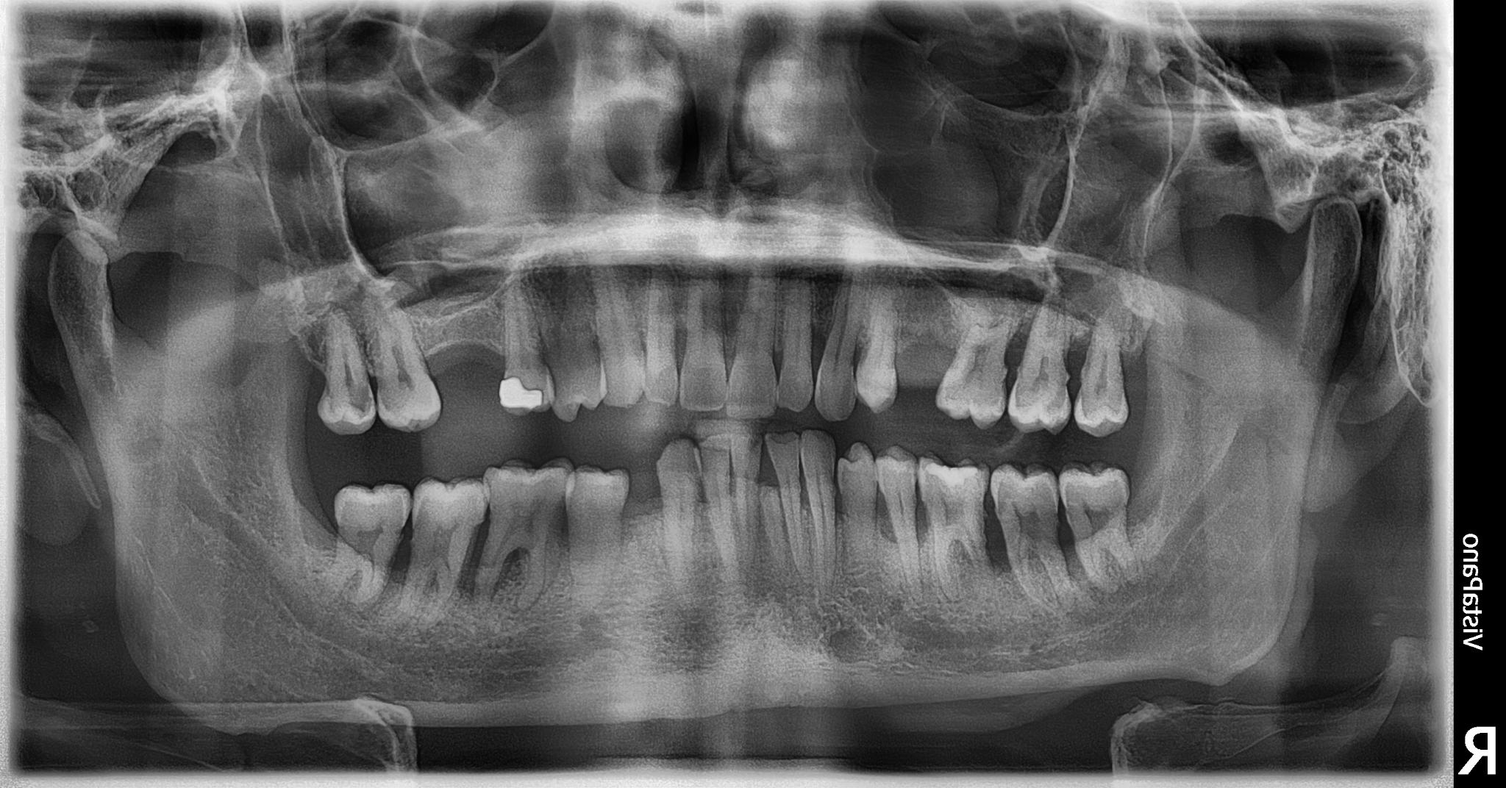Premolars: (408, 332, 1185, 788), (534, 297, 1506, 583), (576, 275, 1506, 570), (213, 245, 614, 710), (242, 252, 666, 573), (203, 273, 560, 586)
